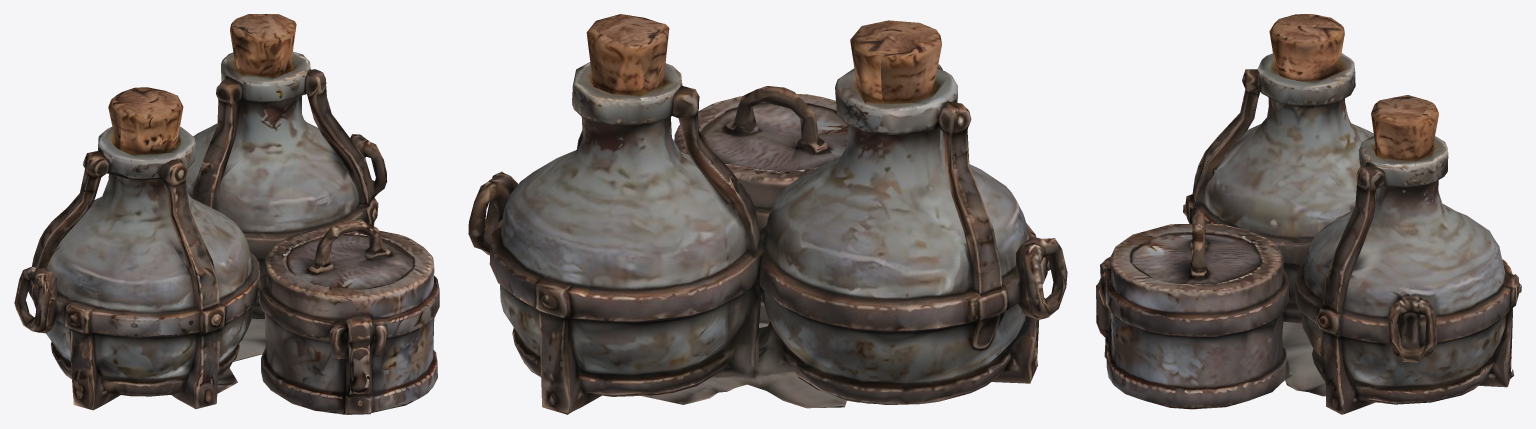
Rendered from res_mercury.glb.
3 views of the same model, side by side, from view 1: azimuth 30°, elevation 25°; view 2: azimuth 150°, elevation 25°; view 3: azimuth 270°, elevation 25° (orthographic). The views are drawn at different scales.
Parts seen in each view (by area): view 1: tripo_node_f9710faa-bab9-4312-94db-0cfb270307b1; view 2: tripo_node_f9710faa-bab9-4312-94db-0cfb270307b1; view 3: tripo_node_f9710faa-bab9-4312-94db-0cfb270307b1.
Part boxes in pixels (<box>): tripo_node_f9710faa-bab9-4312-94db-0cfb270307b1: <box>14,14,439,414</box>; tripo_node_f9710faa-bab9-4312-94db-0cfb270307b1: <box>468,14,1067,414</box>; tripo_node_f9710faa-bab9-4312-94db-0cfb270307b1: <box>1096,14,1521,414</box>.
Bounding box in the file's own units: 1.4 × 0.9005 × 1.26.
Materials: 1 (1 with a texture image).
